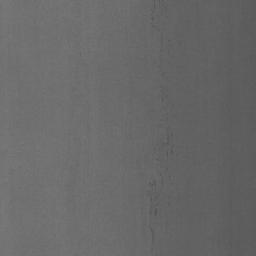Silk spot: (162, 133, 173, 146), (147, 180, 156, 195), (149, 203, 158, 216), (150, 228, 154, 244)
